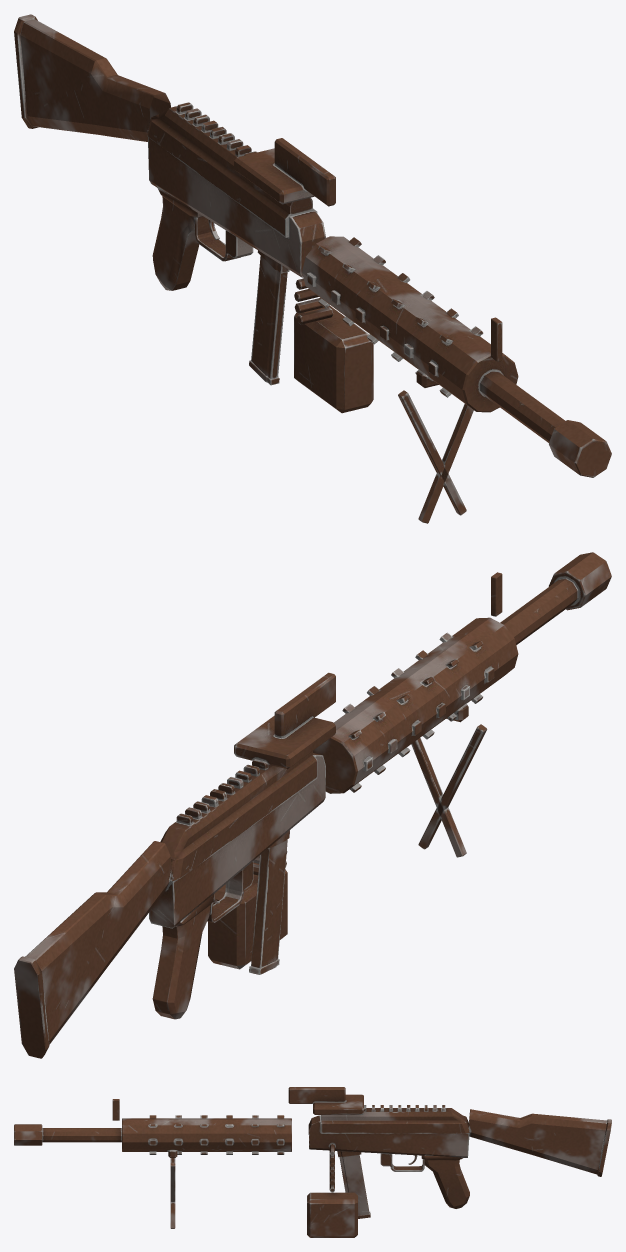
Rendered from machine_gun.glb.
3 views of the same model, one above another, from view 1: azimuth 30°, elevation 25°; view 2: azimuth 150°, elevation 25°; view 3: azimuth 270°, elevation 25° (orthographic). The views are drawn at different scales.
Parts seen in each view (by area): view 1: machine_gun; view 2: machine_gun; view 3: machine_gun.
Part boxes in pixels (x1,y1,x2,y2): machine_gun: (14, 14, 611, 523); machine_gun: (14, 552, 611, 1058); machine_gun: (14, 1087, 611, 1237).
Bounding box in the file's own units: 0.0829 × 0.1969 × 0.78.
1 material, 1 textured.
